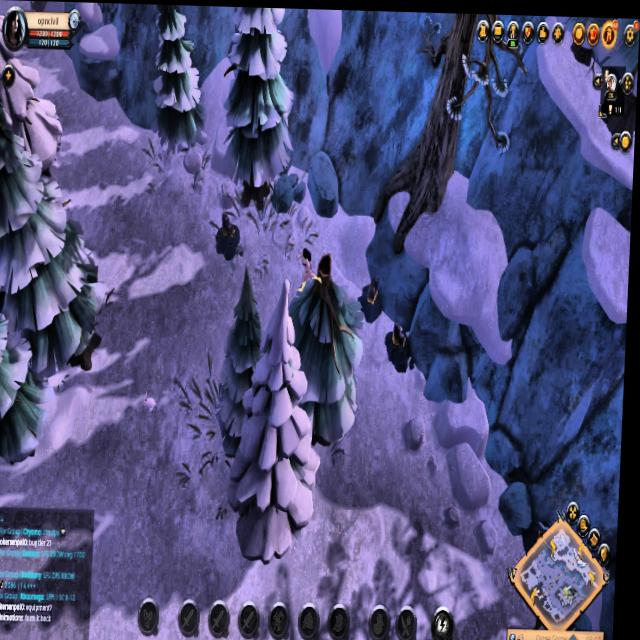copper_ore: (217, 205, 248, 262), (384, 322, 420, 363), (363, 272, 389, 324)
